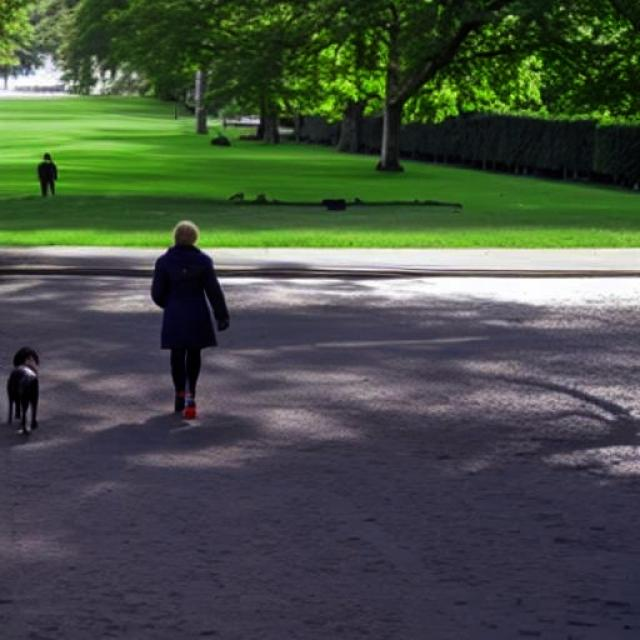Unleashed_Dog: (6, 348, 202, 436)
